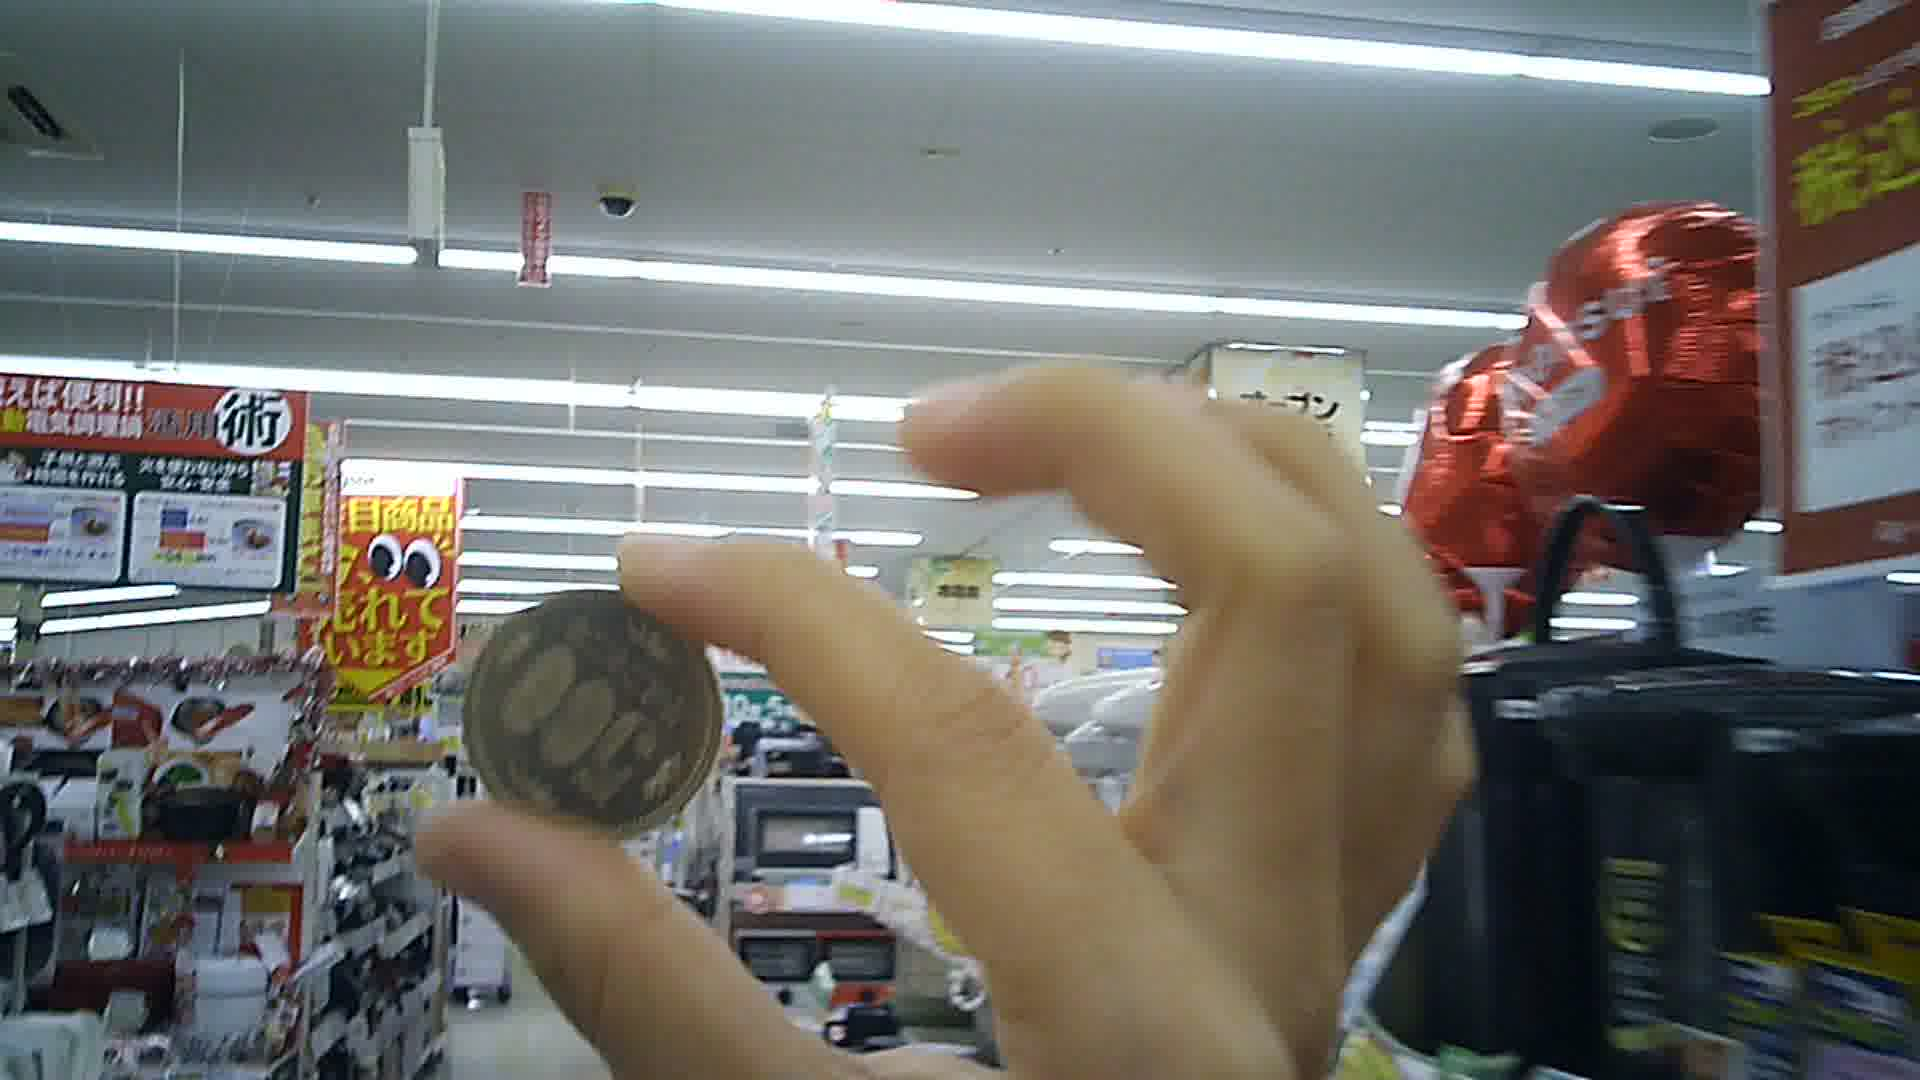500 Yen: (462, 584, 741, 853)
